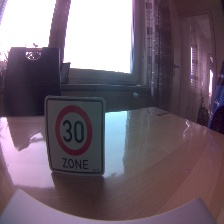dreisiger_zone: (43, 95, 106, 178)
